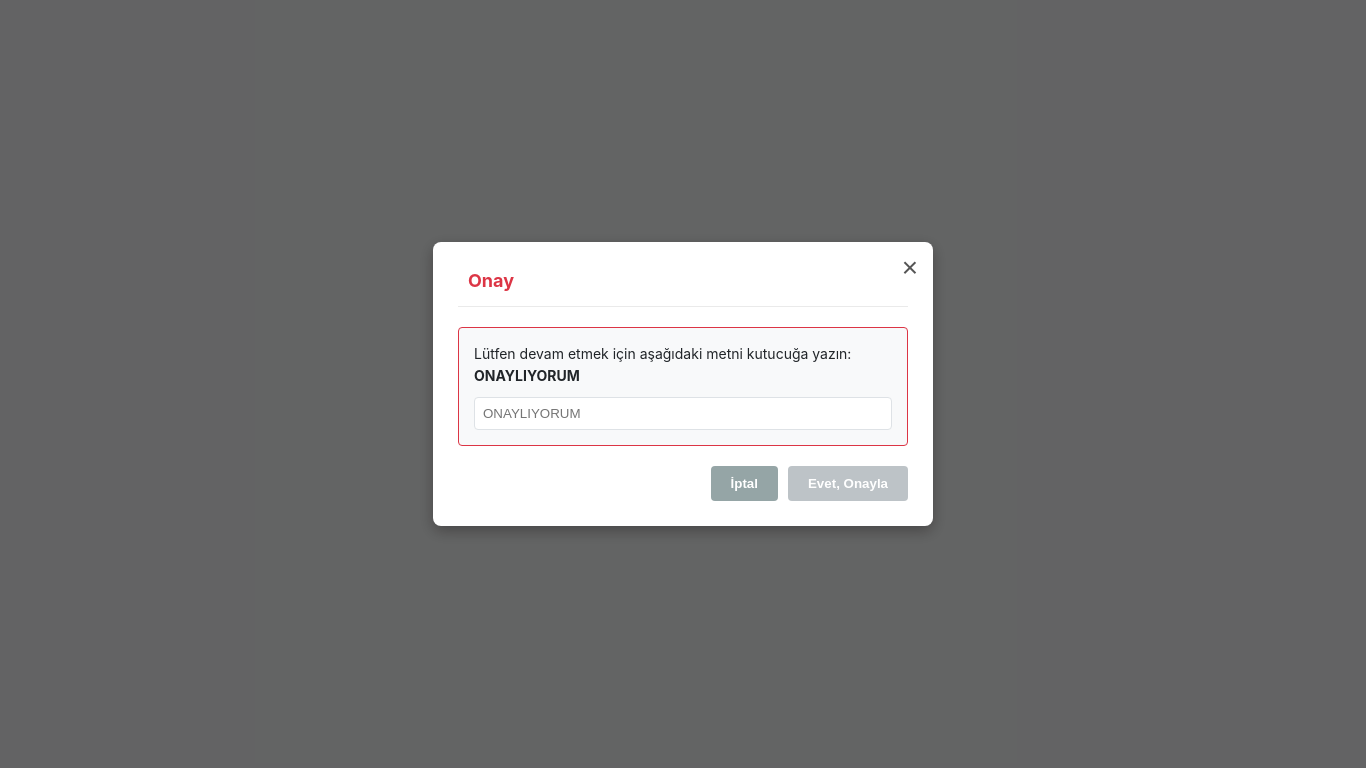
ConfirmModal.vue › onay metni gerektiğinde, metin eşleşmeden Onayla butonu pasif olur
Expected: the button with class "btn-confirm-danger" is disabled, [788,466,908,501]
Input alanına yanlış metin gir
Type "yanlış metin" into the field with placeholder "ONAYLIYORUM" at (683, 414), box [474,397,892,430]
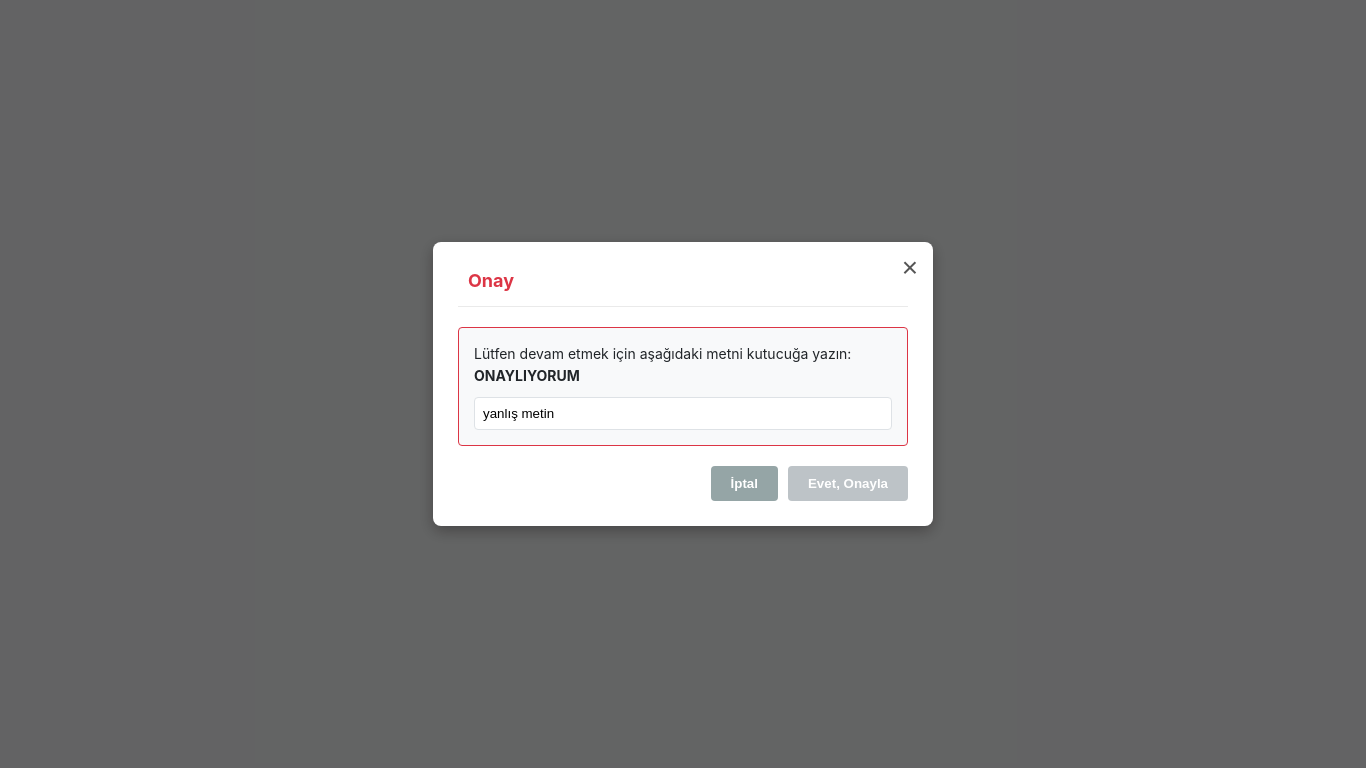
Expected: the button with class "btn-confirm-danger" is disabled, [788,466,908,501]
Input alanına doğru metni gir
Replace the text in the field with "ONAYLIYORUM" at (683, 414), box [474,397,892,430]
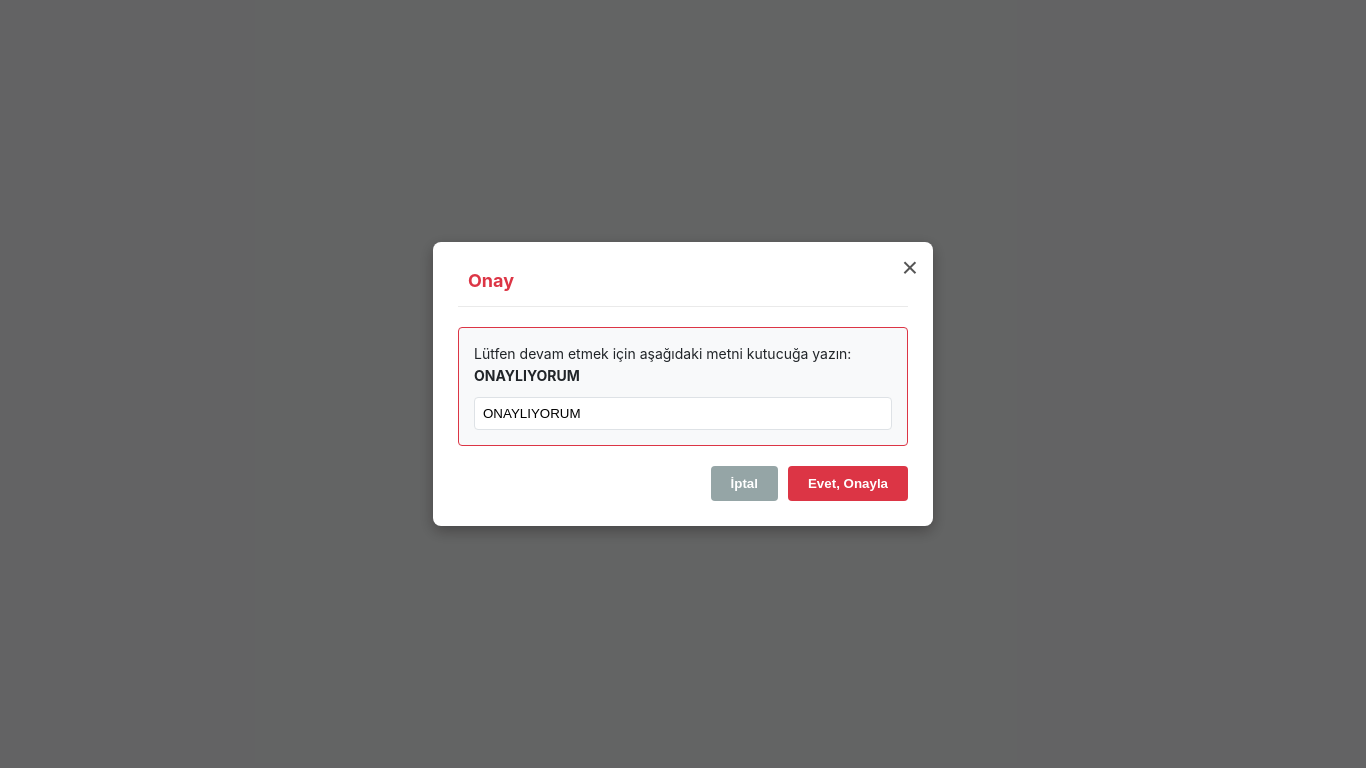
Expected: the button with class "btn-confirm-danger" is enabled, [788,466,908,501]
